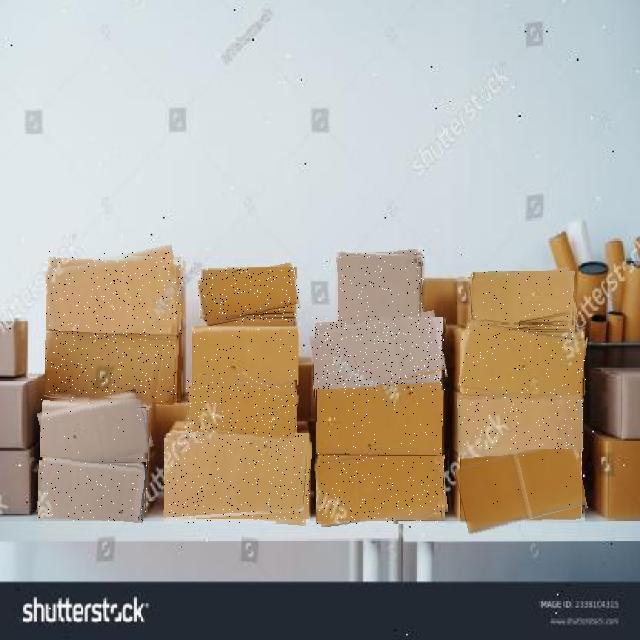BoxFace: (164, 434, 310, 524), (46, 251, 183, 338), (312, 317, 446, 397), (457, 449, 585, 529), (45, 331, 178, 403), (316, 451, 446, 524), (460, 324, 586, 399), (316, 390, 444, 455), (458, 392, 584, 457), (40, 394, 152, 466), (186, 379, 297, 443), (38, 457, 147, 521), (338, 250, 424, 327), (471, 272, 577, 334), (192, 327, 298, 385), (198, 267, 300, 322)
